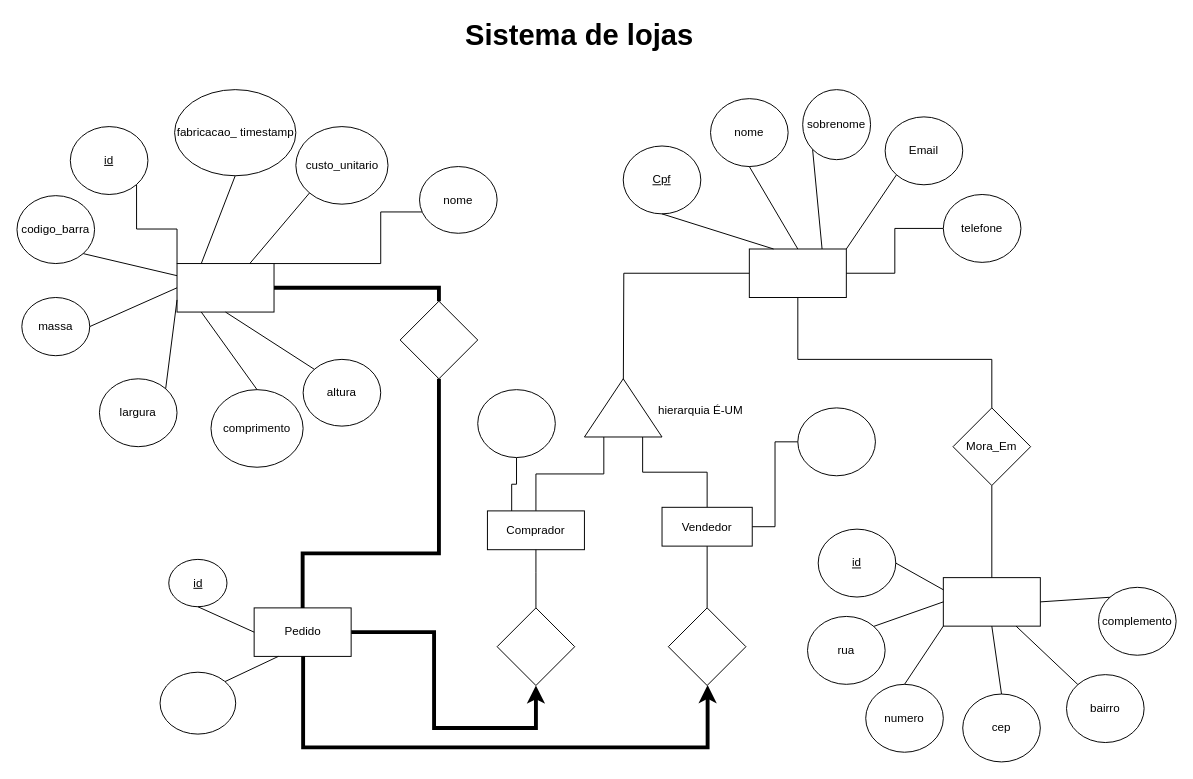
The diagram is 1193 pixels wide and 779 high, and some of its shapes have lost their labels. Here are the shapes that lost their labels. From the top down, the box of each, then its label:
(176, 263, 274, 312): Produto
(748, 248, 846, 297): usuario
(399, 300, 478, 379): Vendido
(477, 389, 555, 458): cartao
(583, 378, 662, 437): É um
(797, 407, 875, 476): registro
(942, 577, 1040, 626): endereco
(496, 607, 575, 685): Compra
(667, 607, 746, 685): Vende
(159, 671, 236, 734): timestamp
